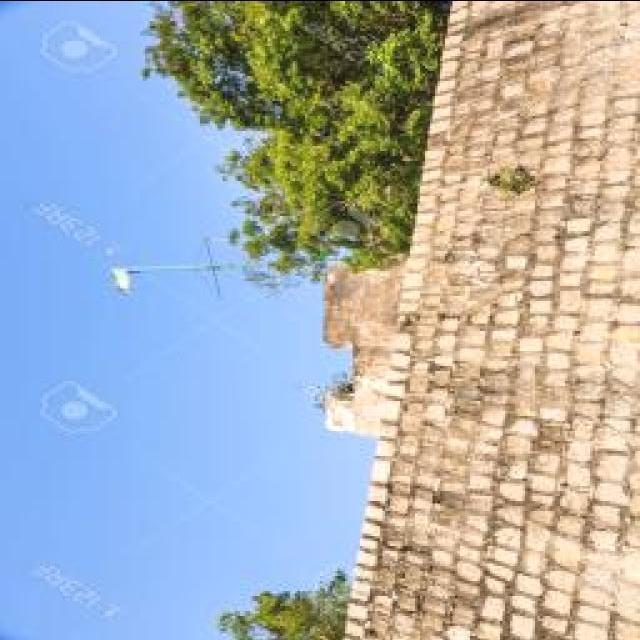crack: (325, 1, 639, 638), (587, 264, 620, 285)
vegetation: (140, 0, 448, 292), (138, 2, 285, 139), (217, 566, 350, 639), (357, 14, 442, 111), (218, 608, 258, 638)
